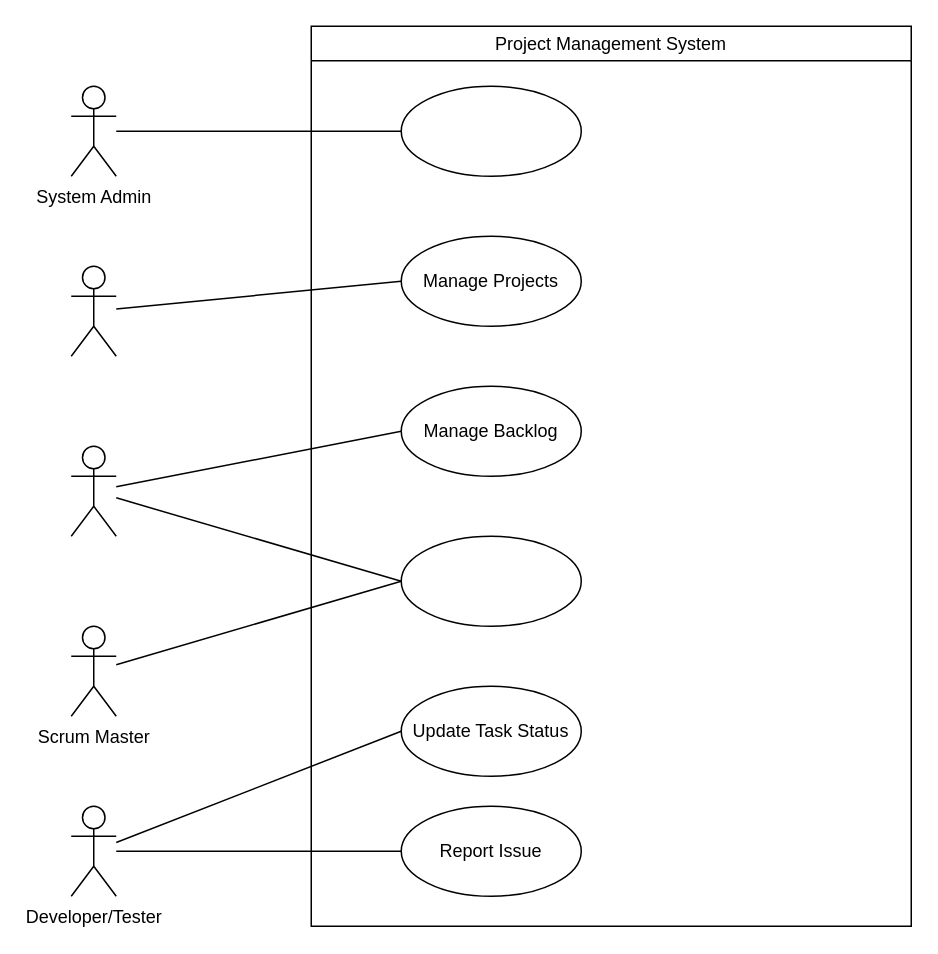
This 938x954 diagram has some shape labels left out. The shapes that lost their labels are listed below. From the top down, each one's centre as x and y in pixels, then its label:
the point at 490,130: Manage Users
the point at 93,310: Project Admin
the point at 93,490: Product Owner
the point at 490,580: Plan Sprint
